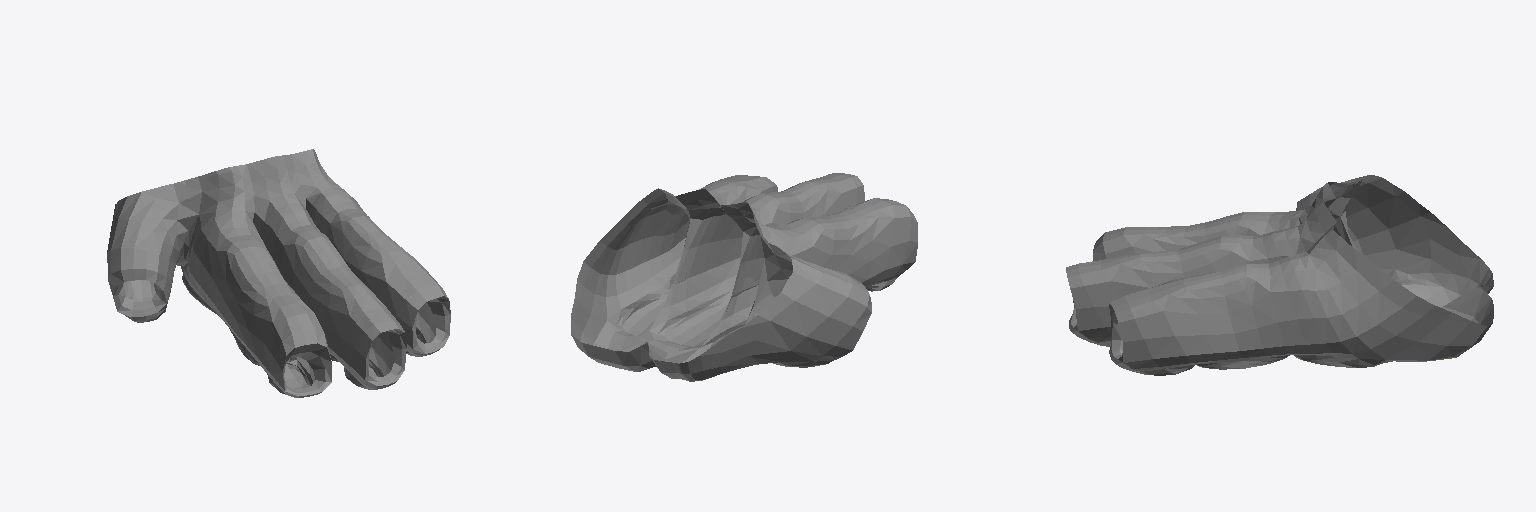
The model's file is pied_arriere_gauche_orteils.obj.
3 renders of one model, left to right at view 1: azimuth 30°, elevation 25°; view 2: azimuth 150°, elevation 25°; view 3: azimuth 270°, elevation 25°, orthographic.
Visible parts, largest first — view 1: Cube.004_Cube.003; view 2: Cube.004_Cube.003; view 3: Cube.004_Cube.003.
Part boxes in pixels (left/top/right/bottom): Cube.004_Cube.003: left=107, top=149, right=450, bottom=397; Cube.004_Cube.003: left=571, top=173, right=917, bottom=381; Cube.004_Cube.003: left=1066, top=175, right=1493, bottom=375.
Size of the model in its own units: 0.9216 by 0.5313 by 1.4.